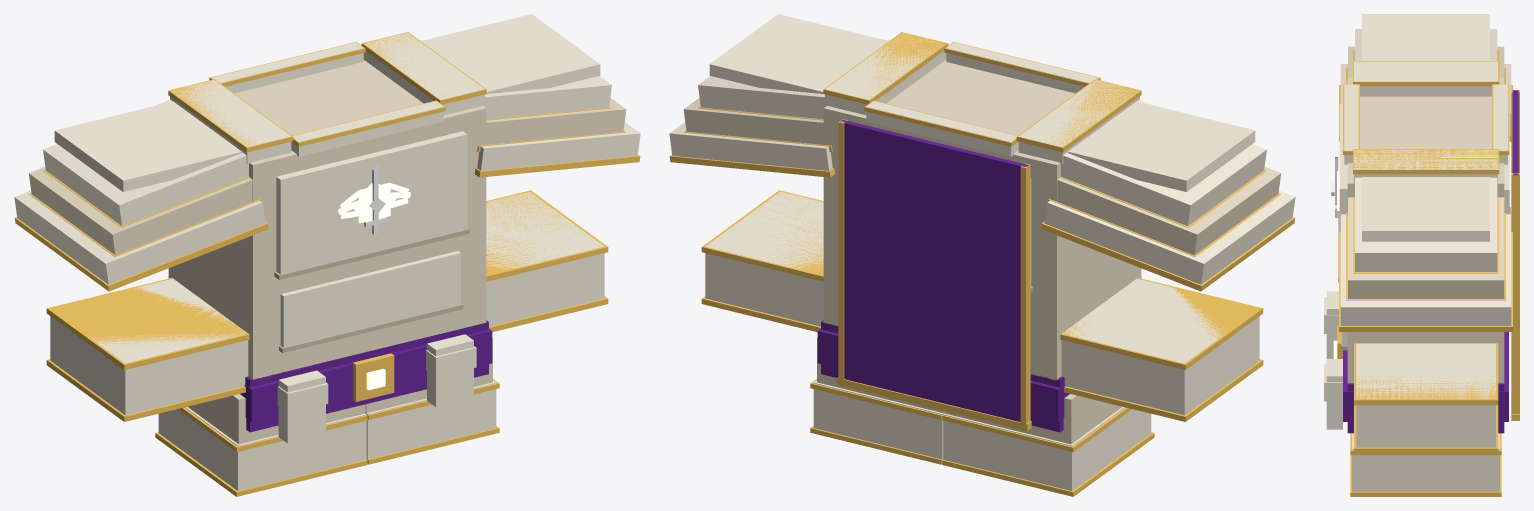
The picture shows the model from 3 angles, left to right: view 1: azimuth 30°, elevation 25°; view 2: azimuth 150°, elevation 25°; view 3: azimuth 270°, elevation 25°; orthographic projection. The views are drawn at different scales.
Visible parts, largest first — view 1: oathbound-hauberk; view 2: oathbound-hauberk; view 3: oathbound-hauberk.
Boxes of the visible parts, left/top/right/bottom form: oathbound-hauberk: left=14, top=14, right=640, bottom=496; oathbound-hauberk: left=669, top=14, right=1295, bottom=496; oathbound-hauberk: left=1324, top=14, right=1519, bottom=496.
Size of the model in its own units: 1.26 by 0.778 by 0.429.
